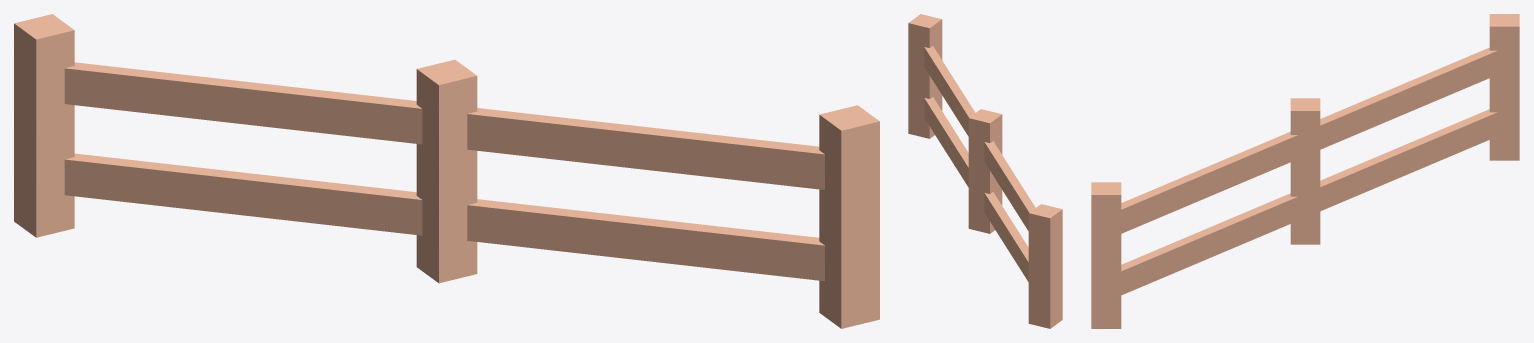
The model's file is fence_simpleDiagonalCenter.gltf.
3 views of the same model, side by side, from view 1: azimuth 30°, elevation 25°; view 2: azimuth 150°, elevation 25°; view 3: azimuth 270°, elevation 25° (orthographic). The views are drawn at different scales.
Parts seen in each view (by area): view 1: fence_simpleDiagonalCenter; view 2: fence_simpleDiagonalCenter; view 3: fence_simpleDiagonalCenter.
Boxes of the visible parts, <box> form: fence_simpleDiagonalCenter: <box>14,14,879,328</box>; fence_simpleDiagonalCenter: <box>908,14,1062,328</box>; fence_simpleDiagonalCenter: <box>1091,14,1519,328</box>.
Size of the model in its own units: 1 by 0.345 by 1.
